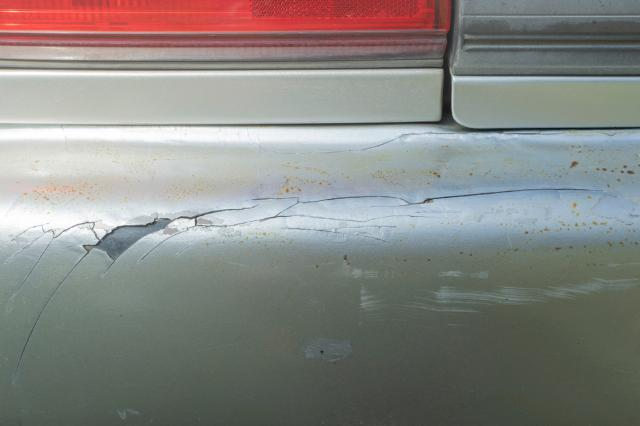Bumper: (0, 71, 640, 426)
